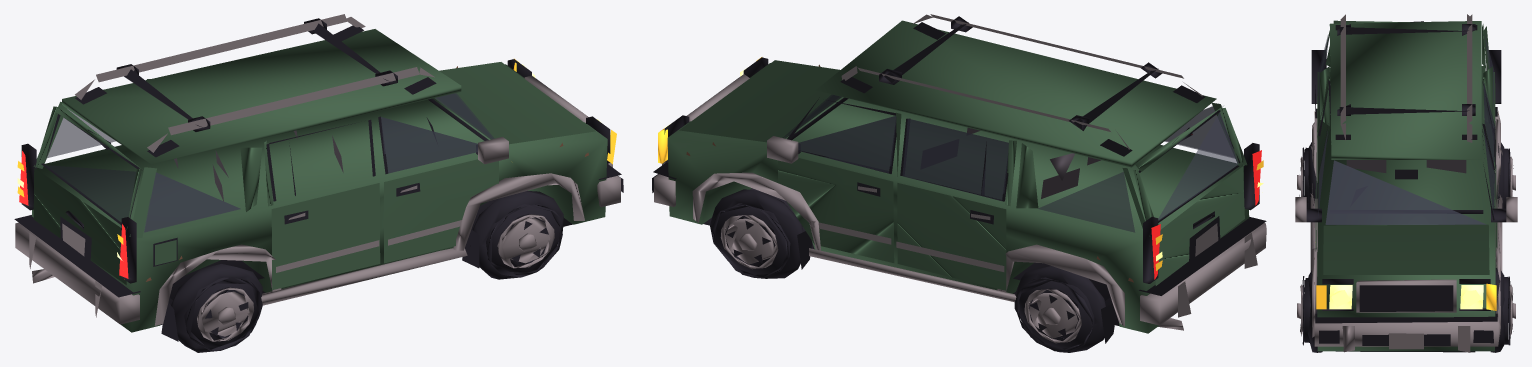
3 views of the same model, side by side, from view 1: azimuth 30°, elevation 25°; view 2: azimuth 150°, elevation 25°; view 3: azimuth 270°, elevation 25° (orthographic). The views are drawn at different scales.
Parts seen in each view (by area): view 1: body, object 8, wheelRL, wheelFL, lightsBrake; view 2: body, object 8, wheelFR, wheelRR, lightsBrake; view 3: body, object 8, lightsFront, wheelFR, wheelFL, wheelRL, wheelRR.
Boxes of the visible parts, box(x1,y1,x2,y2) form: body: box(14, 14, 623, 341); object 8: box(33, 104, 508, 289); wheelRL: box(171, 264, 262, 352); wheelFL: box(470, 191, 563, 279); lightsBrake: box(17, 151, 128, 279); body: box(652, 14, 1266, 343); object 8: box(767, 97, 1247, 290); wheelFR: box(710, 189, 803, 278); wheelRR: box(1014, 266, 1115, 352); lightsBrake: box(1151, 150, 1263, 279); body: box(1305, 14, 1502, 352); object 8: box(1295, 20, 1517, 267); lightsFront: box(1316, 283, 1496, 310); wheelFR: box(1490, 268, 1515, 352); wheelFL: box(1297, 270, 1322, 352); wheelRL: box(1297, 142, 1317, 208); wheelRR: box(1495, 140, 1515, 208).
Size of the model in its own units: 4.41 by 1.79 by 1.88.
